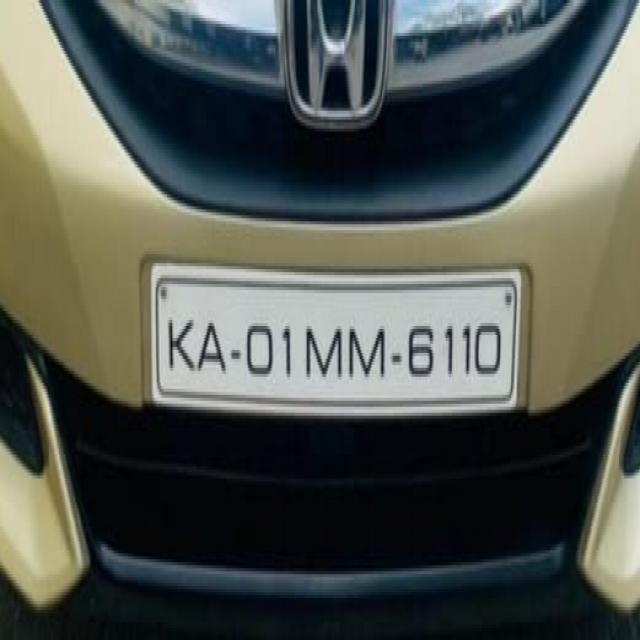0: (244, 306, 276, 397), (475, 310, 505, 384)
1: (278, 315, 297, 396), (440, 318, 459, 392), (458, 316, 473, 391)
6: (404, 326, 438, 393)
A: (198, 307, 227, 384)
K: (162, 309, 198, 383)
M: (346, 310, 391, 394), (302, 314, 346, 396)
